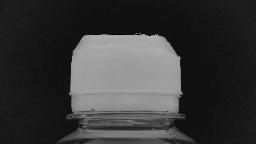Broken Cap: (57, 28, 191, 122)
